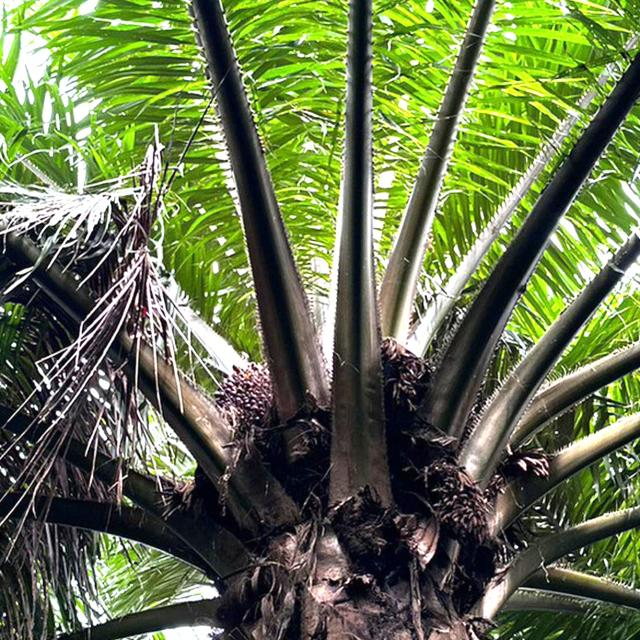ripe: (207, 351, 285, 432)
